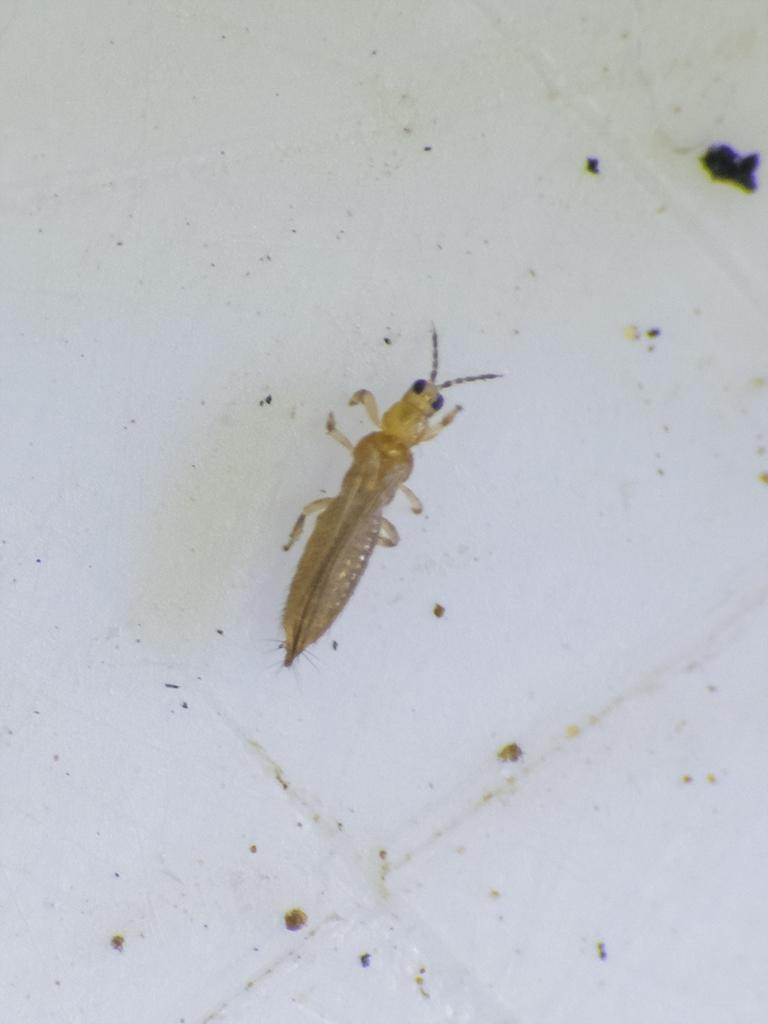tiny_pests: (230, 279, 547, 699)
